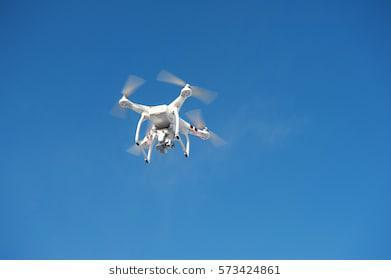drone: (108, 69, 227, 171)
